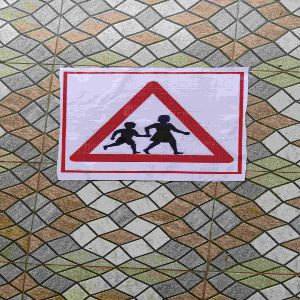schools: (63, 78, 239, 173)
